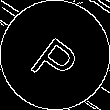P_NE: (25, 24, 85, 86)
